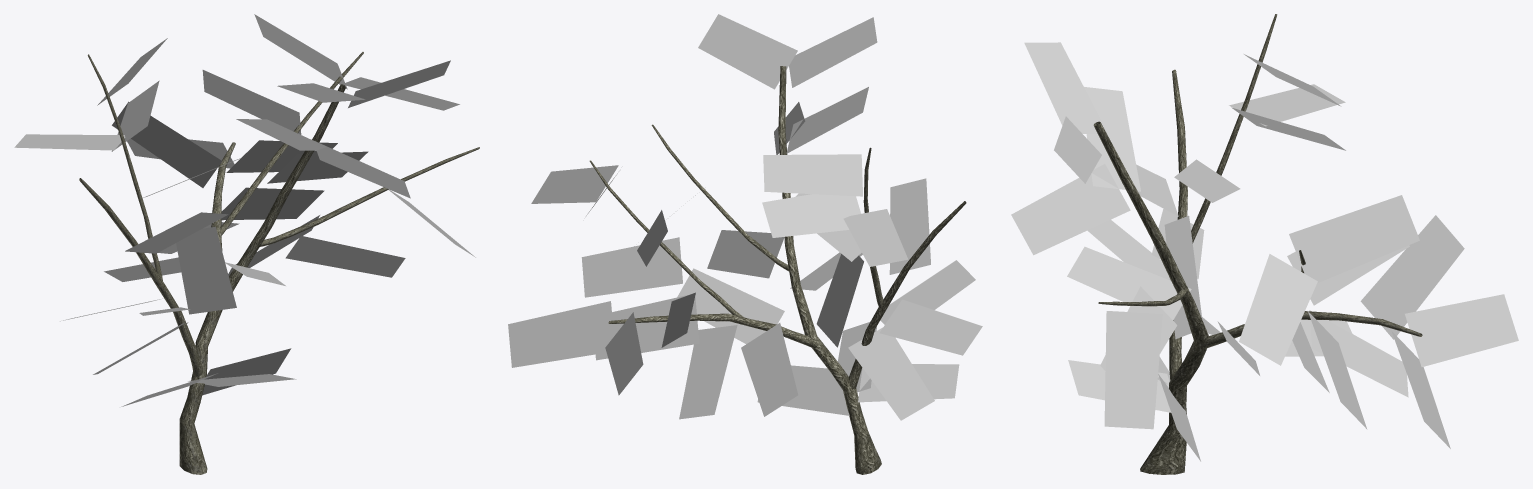
The model's file is Branch05(old collider).fbx.
3 renders of one model, left to right at view 1: azimuth 30°, elevation 25°; view 2: azimuth 150°, elevation 25°; view 3: azimuth 270°, elevation 25°, orthographic. The views are drawn at different scales.
Visible parts, largest first — view 1: Branch05, Object001; view 2: Branch05, Object001; view 3: Branch05, Object001.
Part boxes in pixels (box(x1,y1,x2,y2)): Branch05: box(14, 14, 479, 441); Object001: box(179, 398, 207, 474); Branch05: box(508, 14, 982, 447); Object001: box(849, 412, 881, 474); Branch05: box(1011, 14, 1518, 461); Object001: box(1140, 419, 1186, 474).
Size of the model in its own units: 120 by 112 by 113.
